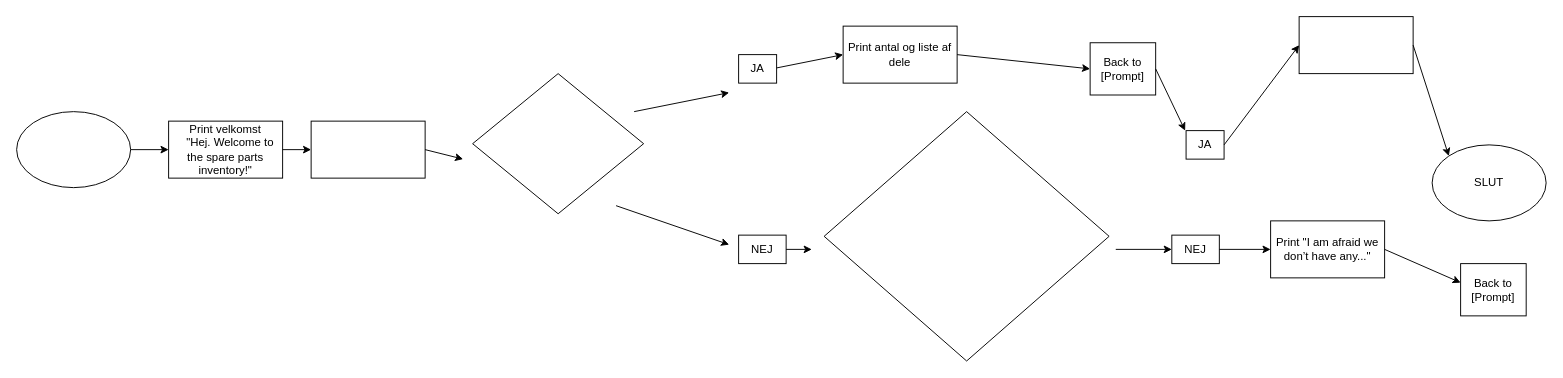
Some shapes in this 1563 by 378 pixel diagram are drawn without their labels. The shapes that lost their labels are listed below. From the top down, each one's box as (x1, y1, x2, y2) in pixels, then its label:
(1298, 16, 1413, 74): Print: Ive got {part} 😀
(16, 111, 131, 188): START
(310, 120, 425, 178): Prompt for input "Which part do you need?"
(472, 73, 644, 214): Specialspørgsmål? ("any parts" / "in stock")
(823, 111, 1109, 361): Eksakt match? Er input=inventory: hydraulic pump, PLC module, servo motor?)
